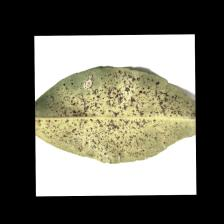canker: (52, 70, 169, 158)
